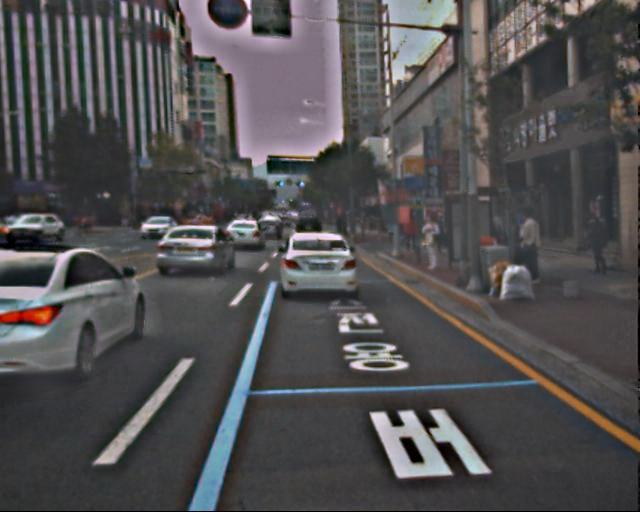person: (511, 209, 542, 285), (581, 209, 610, 279), (419, 211, 445, 274), (402, 213, 419, 254)
